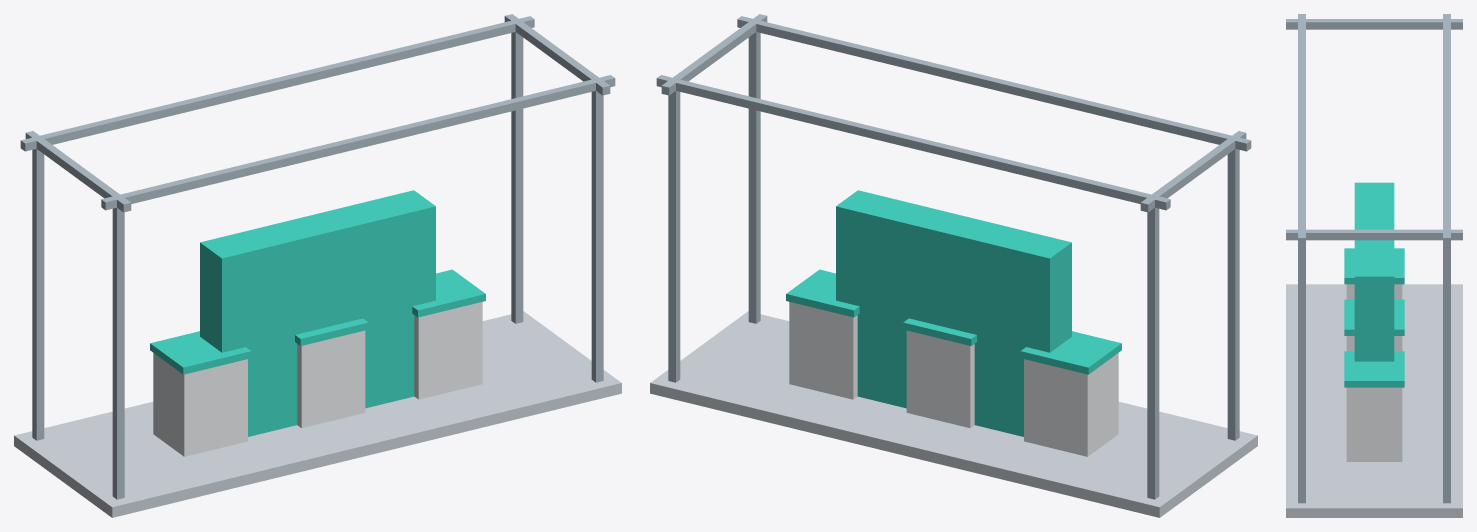
3 renders of one model, left to right at view 1: azimuth 30°, elevation 25°; view 2: azimuth 150°, elevation 25°; view 3: azimuth 270°, elevation 25°, orthographic. The views are drawn at different scales.
Parts seen in each view (by area): view 1: Exhibition Booth Concept; view 2: Exhibition Booth Concept; view 3: Exhibition Booth Concept.
Boxes of the visible parts, x1,y1,x2,y2 form: Exhibition Booth Concept: (14,14,621,517); Exhibition Booth Concept: (650,14,1257,517); Exhibition Booth Concept: (1286,14,1462,517).
Bounding box in the file's own units: 6 × 3.49 × 2.
